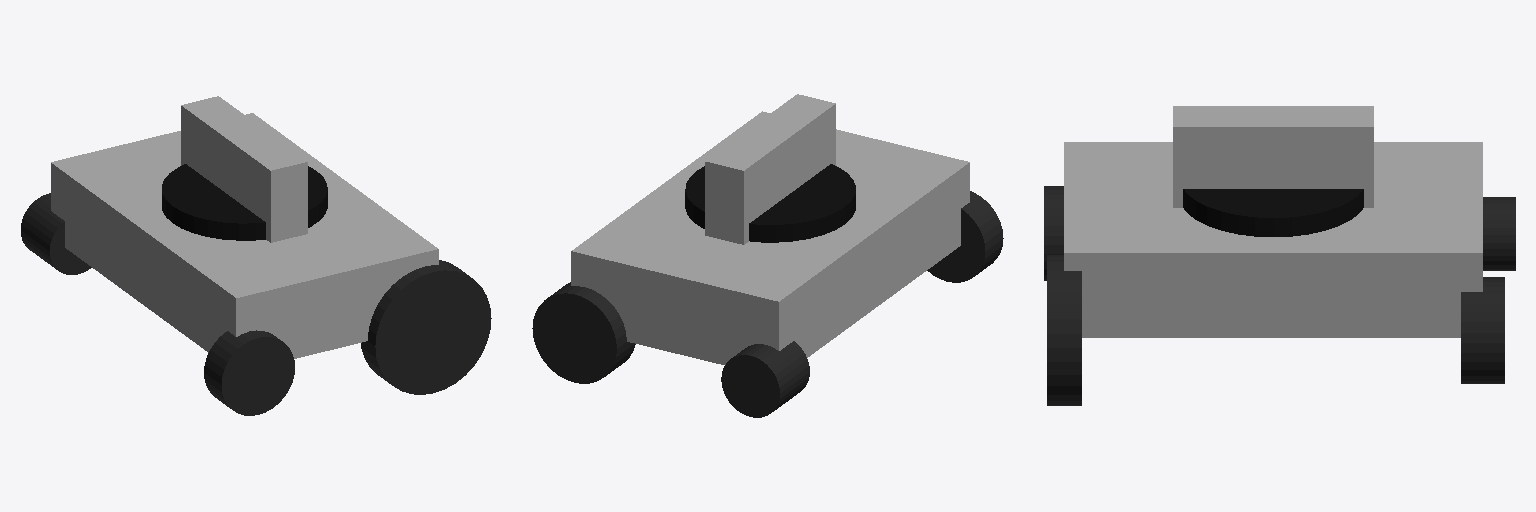
URDF robot description (evolved_robot):
<?xml version="1.0"?>
<robot name="evolved_robot">
  <material name="metal">
    <color rgba="0.7 0.7 0.7 1.0"/>
  </material>
  <material name="plastic">
    <color rgba="0.3 0.3 0.9 1.0"/>
  </material>
  <material name="rubber">
    <color rgba="0.1 0.1 0.1 1.0"/>
  </material>
  <material name="red">
    <color rgba="1.0 0.0 0.0 1.0"/>
  </material>
  <material name="wheel_material">
    <color rgba="0.2 0.2 0.2 1.0"/>
  </material>
  <link name="base_link">
    <visual>
      <geometry><box size="0.30885406755078415 0.4915286942678372 0.10917641224025697"/></geometry>
      <material name="metal"/>
    </visual>
    <collision>
      <geometry><box size="0.30885406755078415 0.4915286942678372 0.10917641224025697"/></geometry>
    </collision>
    <inertial>
      <mass value="5.0"/>
      <inertia ixx="0.21126662189858292" ixy="0" ixz="0" 
               iyy="0.08942527002693239" iyz="0" 
               izz="0.28082607694275774"/>
    </inertial>
  </link>
  <link name="link1">
    <visual>
      <geometry>
        <cylinder radius="0.06276374789163566" length="0.0514543559049874"/>
      </geometry>
      <material name="wheel_material"/>
    </visual>
    <collision>
      <geometry>
        <cylinder radius="0.06276374789163566" length="0.0514543559049874"/>
      </geometry>
    </collision>
    <inertial>
      <mass value="1.0"/>
      <inertia ixx="0.001205451240817626" ixy="0" ixz="0" 
               iyy="0.001205451240817626" iyz="0" 
               izz="0.0019696440247024"/>
    </inertial>
  </link>
  <joint name="joint1" type="continuous">
    <parent link="base_link"/>
    <child link="link1"/>
    <origin xyz="0.13442703377539209 0.2457643471339186 -0.054588206120128484" rpy="1.5708 0 0"/>
    <axis xyz="0 1 0"/>
    <dynamics damping="0.800080736609337" friction="0.1"/>
  </joint>
  <link name="link2">
    <visual>
      <geometry><cylinder radius="0.11007786804061091" length="0.05"/></geometry>
      <material name="rubber"/>
    </visual>
    <collision>
      <geometry><cylinder radius="0.11007786804061091" length="0.05"/></geometry>
    </collision>
    <inertial>
      <mass value="0.5"/>
      <inertia ixx="0.003237617591424871" ixy="0" ixz="0" 
               iyy="0.003237617591424871" iyz="0" 
               izz="0.006058568516183075"/>
    </inertial>
  </link>
  <joint name="joint2" type="revolute">
    <parent link="base_link"/>
    <child link="link2"/>
    <origin xyz="0 0 0.054588206120128484" rpy="0 0 0"/>
    <axis xyz="0.0 0.9935421703900417 0.11346345515911926"/>
    <dynamics damping="0.856863713544254" friction="0.1"/>
    <limit lower="-1.2667756610529117" upper="1.5556918148797805" effort="100" velocity="100"/>
  </joint>
  <link name="link3">
    <visual>
      <geometry>
        <cylinder radius="0.0886510096061919" length="0.04105152901828271"/>
      </geometry>
      <material name="wheel_material"/>
    </visual>
    <collision>
      <geometry>
        <cylinder radius="0.0886510096061919" length="0.04105152901828271"/>
      </geometry>
    </collision>
    <inertial>
      <mass value="1.0"/>
      <inertia ixx="0.002105186045610858" ixy="0" ixz="0" 
               iyy="0.002105186045610858" iyz="0" 
               izz="0.003929500752098565"/>
    </inertial>
  </link>
  <joint name="joint3" type="continuous">
    <parent link="base_link"/>
    <child link="link3"/>
    <origin xyz="0.13442703377539209 -0.2457643471339186 -0.054588206120128484" rpy="1.5708 0 0"/>
    <axis xyz="0 1 0"/>
    <dynamics damping="0.8573772911950069" friction="0.1"/>
  </joint>
  <link name="link4">
    <visual>
      <geometry>
        <cylinder radius="0.04364683632620496" length="0.07712029603936439"/>
      </geometry>
      <material name="wheel_material"/>
    </visual>
    <collision>
      <geometry>
        <cylinder radius="0.04364683632620496" length="0.07712029603936439"/>
      </geometry>
    </collision>
    <inertial>
      <mass value="1.0"/>
      <inertia ixx="0.0009718899187548981" ixy="0" ixz="0" 
               iyy="0.0009718899187548981" iyz="0" 
               izz="0.0009525231606432624"/>
    </inertial>
  </link>
  <joint name="joint4" type="continuous">
    <parent link="base_link"/>
    <child link="link4"/>
    <origin xyz="-0.13442703377539209 0.2457643471339186 -0.054588206120128484" rpy="1.5708 0 0"/>
    <axis xyz="0 1 0"/>
    <dynamics damping="0.3991414187573311" friction="0.1"/>
  </joint>
  <link name="link5">
    <visual>
      <geometry><box size="0.05759607160511873 0.23717176276530344 0.11067024599114919"/></geometry>
      <material name="metal"/>
    </visual>
    <collision>
      <geometry><box size="0.05759607160511873 0.23717176276530344 0.11067024599114919"/></geometry>
    </collision>
    <inertial>
      <mass value="0.5"/>
      <inertia ixx="0.005708195700078571" ixy="0" ixz="0" 
               iyy="0.001297100901006953" iyz="0" 
               izz="0.004963979376461945"/>
    </inertial>
  </link>
  <joint name="joint5" type="floating">
    <parent link="base_link"/>
    <child link="link5"/>
    <origin xyz="0 0 0.10458820612012848" rpy="0 0 0"/>
    <axis xyz="-0.8614842203874079 -0.47321916721917606 0.18414276472316077"/>
    <dynamics damping="0.6722266996412448" friction="0.1"/>
  </joint>
  <link name="link6">
    <visual>
      <geometry>
        <cylinder radius="0.056216930861431924" length="0.04658615893413927"/>
      </geometry>
      <material name="wheel_material"/>
    </visual>
    <collision>
      <geometry>
        <cylinder radius="0.056216930861431924" length="0.04658615893413927"/>
      </geometry>
    </collision>
    <inertial>
      <mass value="1.0"/>
      <inertia ixx="0.000970941679222828" ixy="0" ixz="0" 
               iyy="0.000970941679222828" iyz="0" 
               izz="0.0015801716577395085"/>
    </inertial>
  </link>
  <joint name="joint6" type="continuous">
    <parent link="base_link"/>
    <child link="link6"/>
    <origin xyz="-0.13442703377539209 -0.2457643471339186 -0.054588206120128484" rpy="1.5708 0 0"/>
    <axis xyz="0 1 0"/>
    <dynamics damping="0.47291917500060554" friction="0.1"/>
  </joint>
</robot>

--- Facts derived from the render (not from the file) ---
The picture shows the robot from 3 angles, left to right: view 1: azimuth 30°, elevation 25°; view 2: azimuth 150°, elevation 25°; view 3: azimuth 270°, elevation 25°; orthographic projection.
Model evolved_robot with 7 links and 6 joints (1 revolute, 4 continuous, 1 floating), rooted at base_link, posed every joint at zero.
Visible links, largest first — view 1: base_link, link3, link5, link6, link2, link4; view 2: base_link, link5, link1, link2, link4, link6; view 3: base_link, link5, link2, link3, link1, link4, link6.
Boxes of the visible links, left/top/right/bottom form: base_link: left=51, top=113, right=438, bottom=358; link3: left=361, top=260, right=491, bottom=394; link5: left=181, top=96, right=307, bottom=242; link6: left=204, top=330, right=294, bottom=415; link2: left=162, top=164, right=327, bottom=240; link4: left=21, top=193, right=91, bottom=274; base_link: left=571, top=111, right=969, bottom=364; link5: left=705, top=94, right=835, bottom=244; link1: left=532, top=282, right=635, bottom=383; link2: left=685, top=164, right=855, bottom=242; link4: left=721, top=341, right=809, bottom=417; link6: left=927, top=191, right=1003, bottom=282; base_link: left=1064, top=142, right=1482, bottom=337; link5: left=1173, top=106, right=1373, bottom=207; link2: left=1183, top=189, right=1363, bottom=236; link3: left=1047, top=255, right=1081, bottom=405; link1: left=1461, top=277, right=1504, bottom=383; link4: left=1483, top=197, right=1515, bottom=270; link6: left=1044, top=186, right=1063, bottom=280.
Bounding box of the posed robot: 0.4137 × 0.5534 × 0.3032 m (x, y, z).
Geometry: primitives only (box / cylinder / sphere), no mesh files.